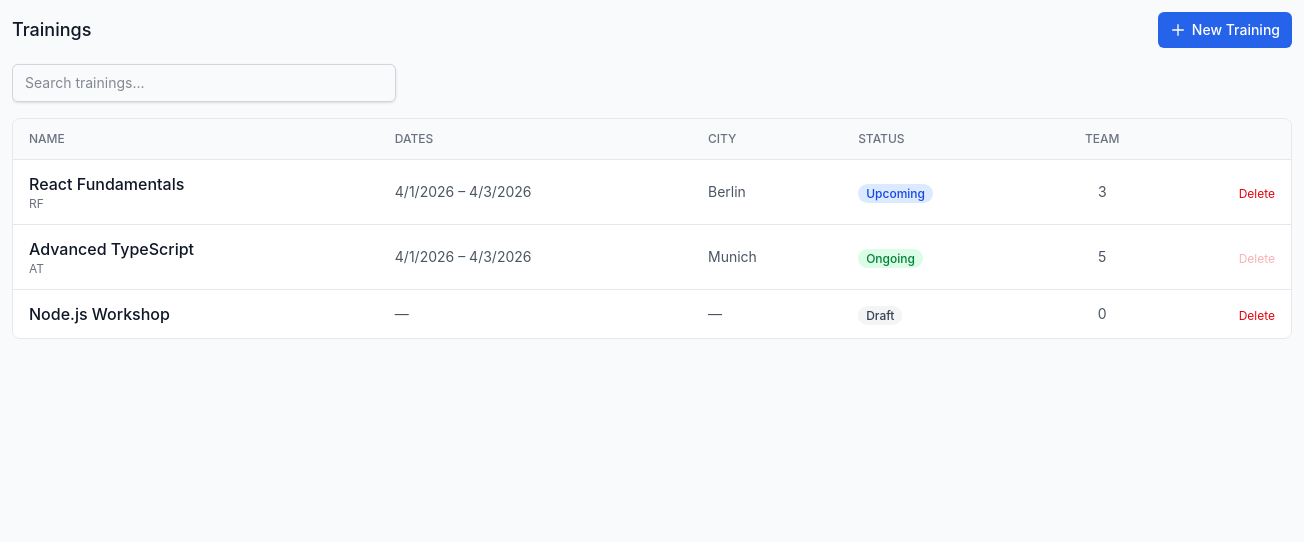
TrainingsListTab › create training flow › shows create form when New Training is clicked
Click the button "New Training" at coordinates (1225, 30), box [1158,12,1292,48]
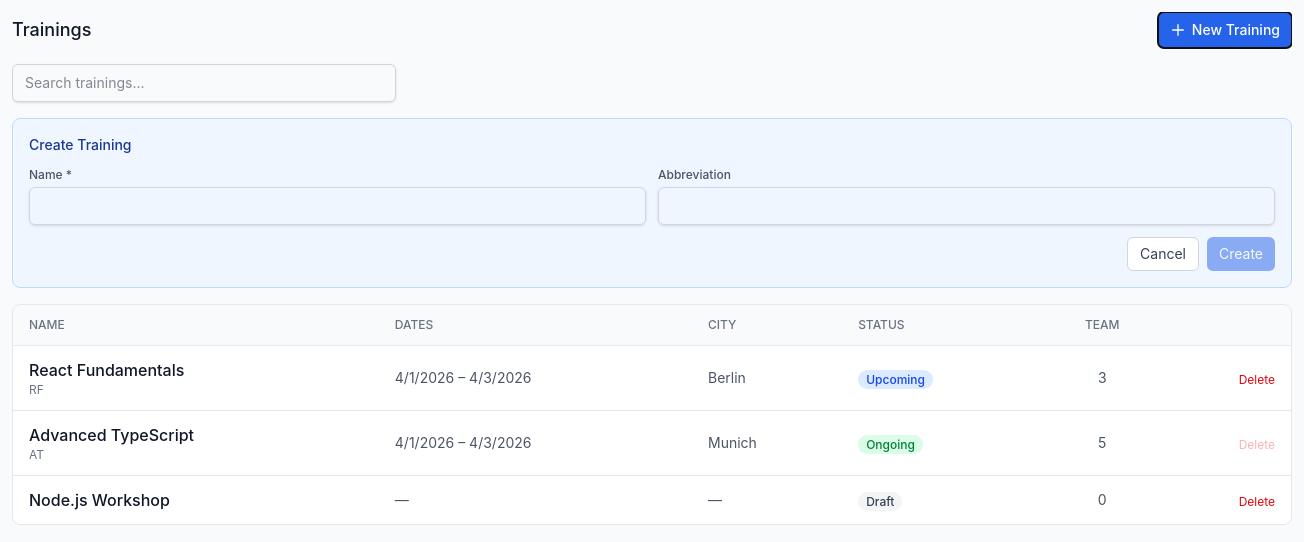
expect the heading "Create Training" is shown: met, box [29,136,132,153]
expect the text "Name *" is shown: met, box [29,167,72,182]
expect the text "Abbreviation" is shown: met, box [658,167,731,182]
